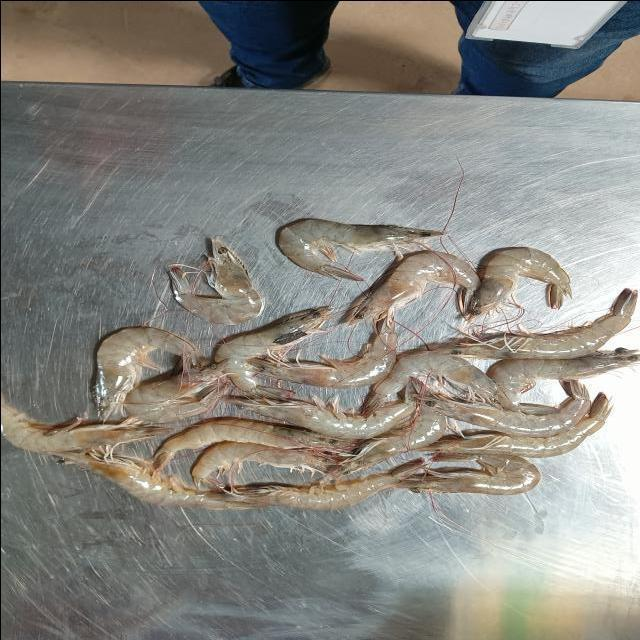shrimp: (434, 288, 638, 359), (412, 391, 611, 458), (53, 450, 257, 509), (213, 306, 332, 395), (343, 250, 481, 326), (153, 418, 352, 470), (277, 218, 443, 280), (248, 319, 397, 388), (412, 379, 591, 436), (230, 459, 423, 509), (93, 326, 195, 416), (485, 348, 640, 404), (224, 395, 414, 439), (363, 351, 498, 412), (169, 238, 264, 324), (328, 409, 445, 478), (465, 246, 571, 321), (0, 404, 169, 451), (191, 440, 337, 485), (394, 452, 540, 495), (122, 365, 224, 421)
